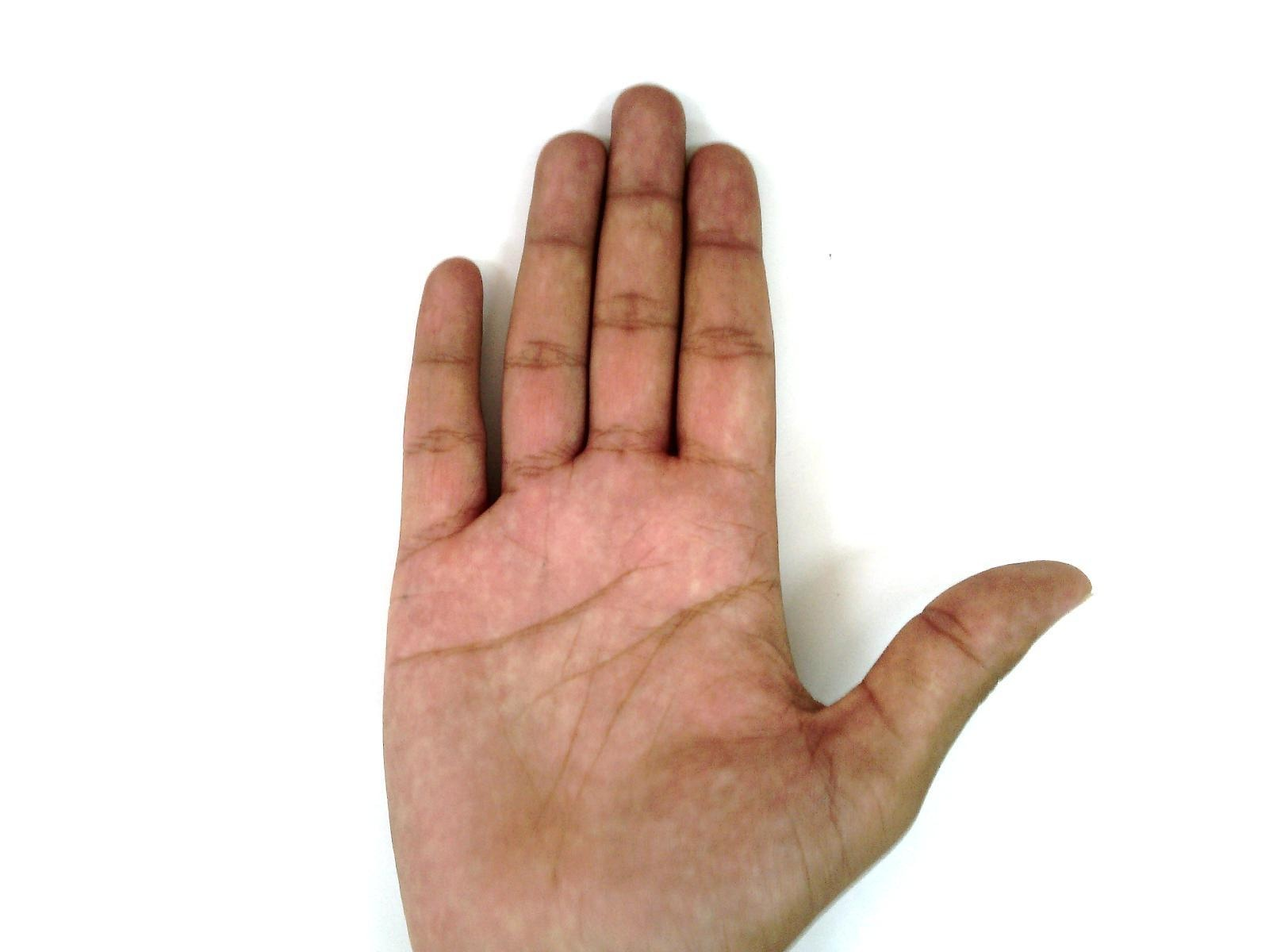open_palm: (378, 83, 1095, 951)
